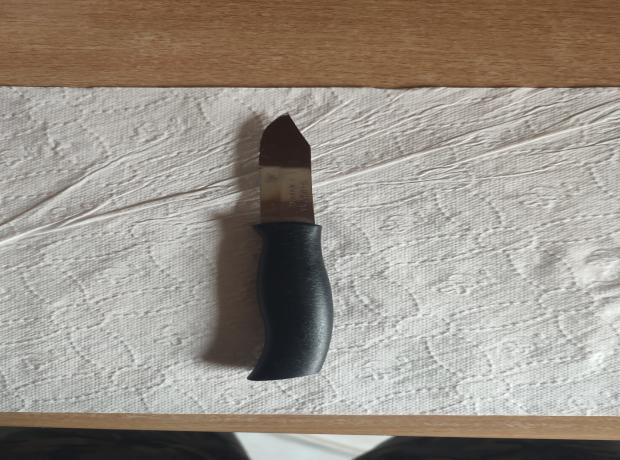metal: (245, 112, 335, 380)
